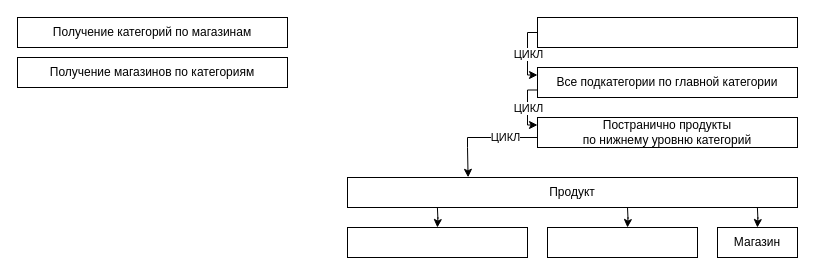
Some shapes in this 815 by 275 pixel diagram are drawn without their labels. The shapes that lost their labels are listed below. From the top down, each one's centre as x and y in pixels, then its label:
(x=667, y=32): Главные категории
(x=437, y=242): Информация продукта (цвета, размеры и тд)
(x=622, y=242): Информация по продукту
